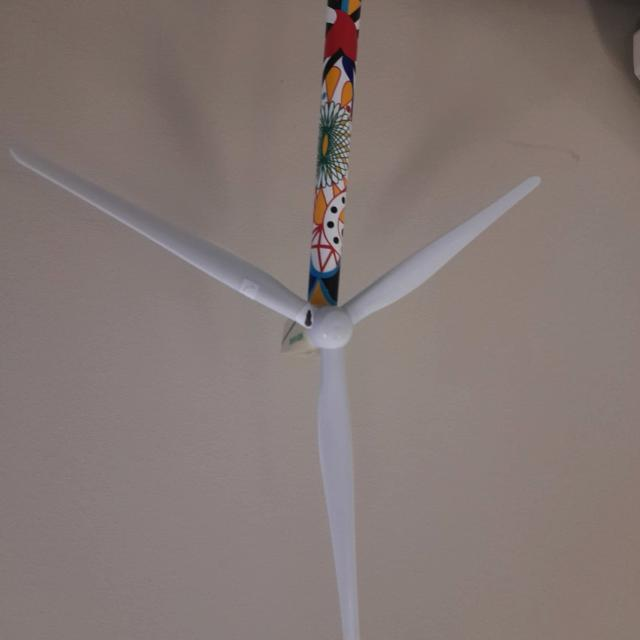dano: (304, 306, 314, 328), (242, 282, 258, 294)
